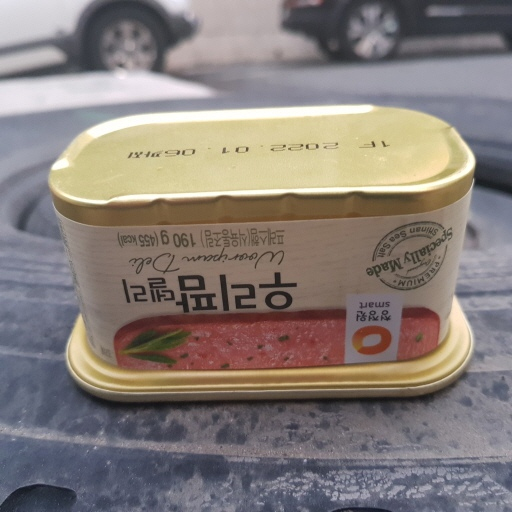Metal_2: (50, 109, 477, 409)
